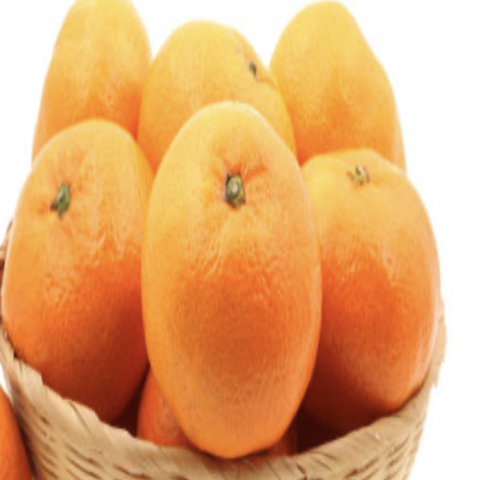orange: (136, 89, 333, 456), (270, 126, 478, 425), (5, 93, 163, 458)
